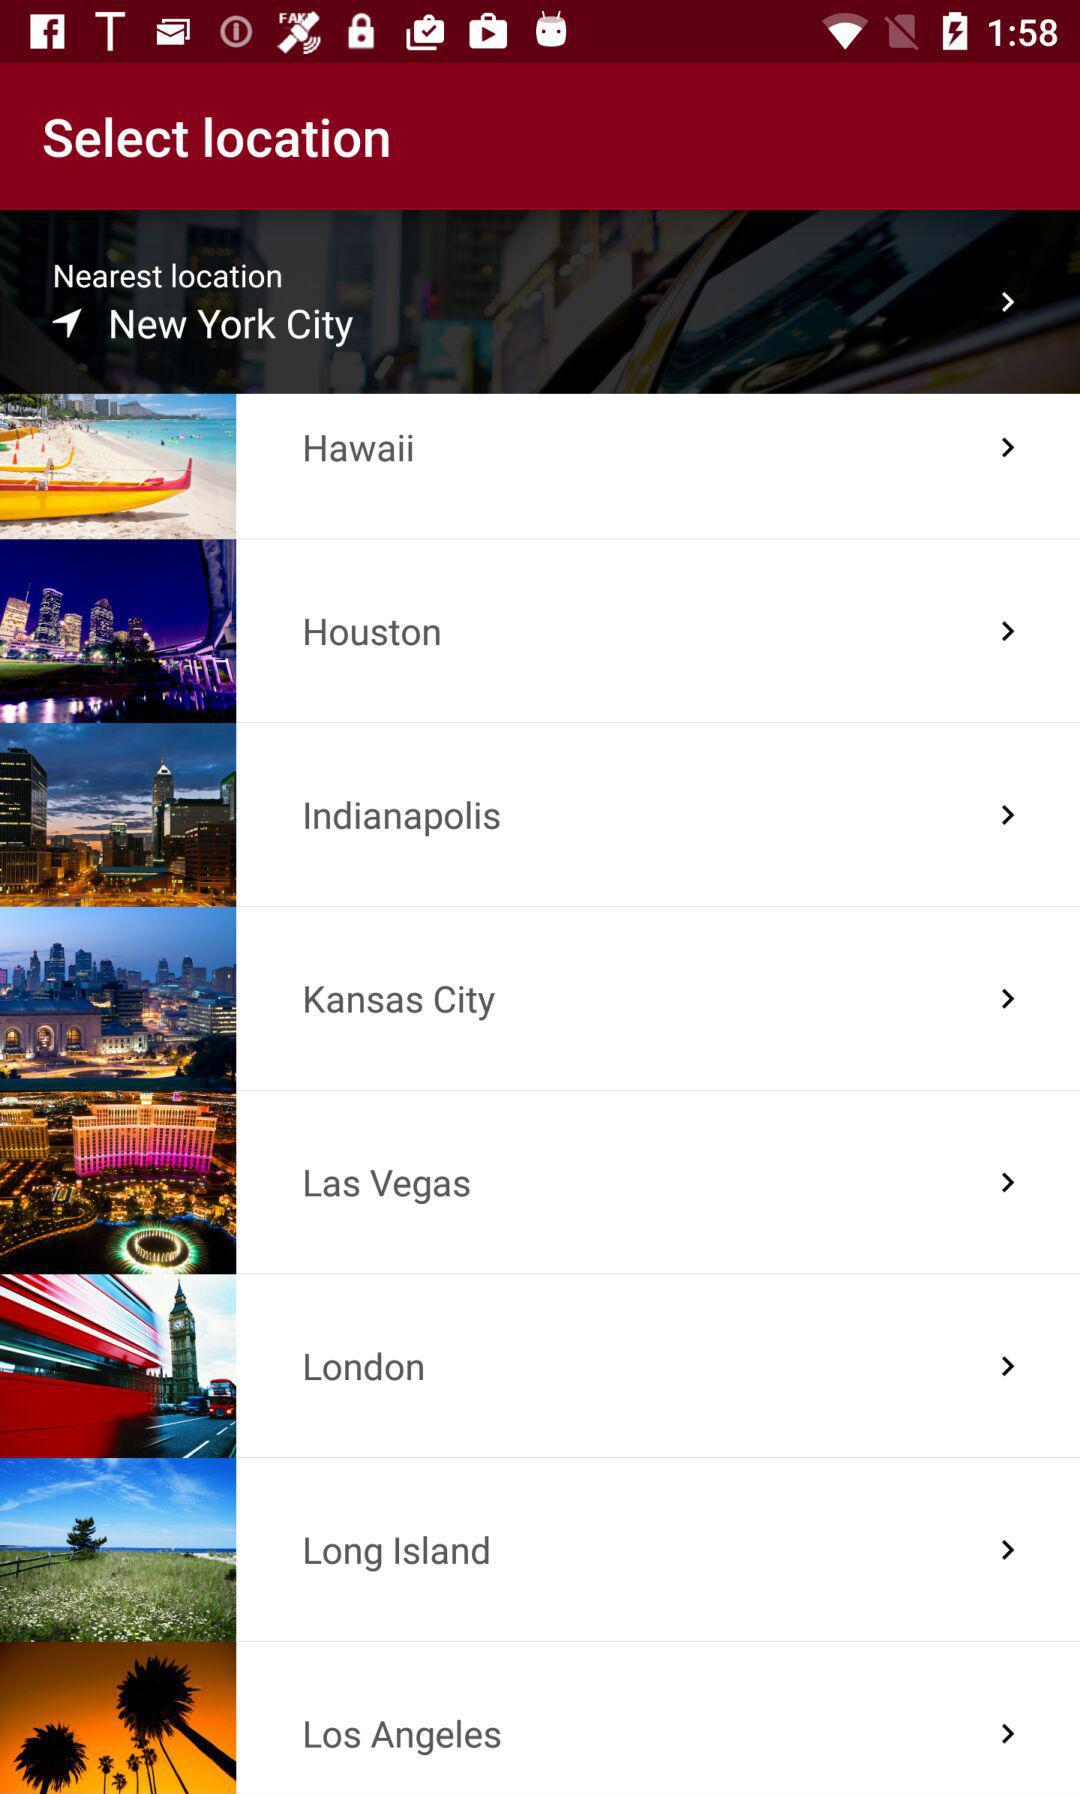Icon: (53, 308, 83, 338), (1001, 1354, 1015, 1378), (1001, 1722, 1015, 1744), (1001, 1539, 1015, 1561), (1001, 988, 1015, 1010), (1001, 805, 1015, 827), (1001, 621, 1015, 643), (1001, 292, 1015, 314), (1001, 1173, 1015, 1193), (1001, 438, 1015, 459)
Image: (1, 1457, 237, 1642), (1, 724, 237, 909), (1, 909, 237, 1092), (1, 539, 237, 723), (1, 1275, 237, 1457), (3, 1093, 237, 1275), (1, 1642, 237, 1794), (3, 395, 237, 539)
Text: (44, 115, 391, 160), (111, 308, 355, 350), (305, 1718, 502, 1757), (305, 800, 502, 838), (304, 985, 497, 1023), (305, 1535, 489, 1574), (55, 261, 284, 290), (305, 1169, 471, 1206), (305, 618, 442, 648), (304, 1351, 424, 1381), (305, 434, 414, 464)
Toolbar: (1, 62, 1080, 208)
UpperTaskBar: (1, 1, 1080, 64)
